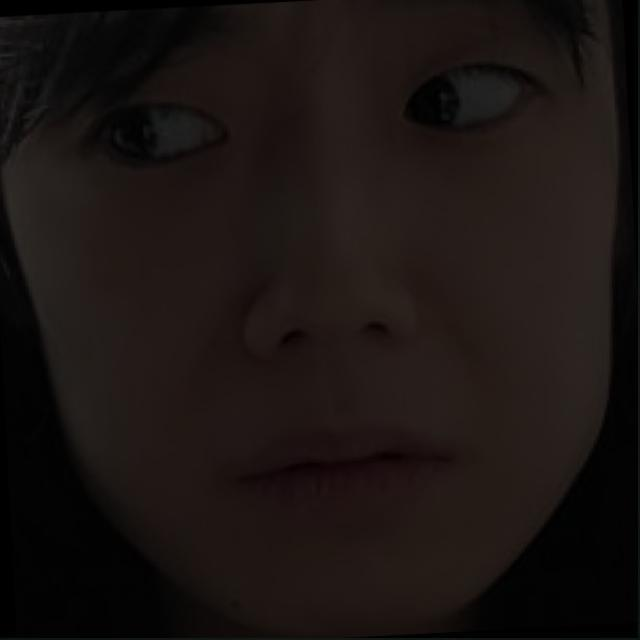Sad: (29, 8, 604, 586)
